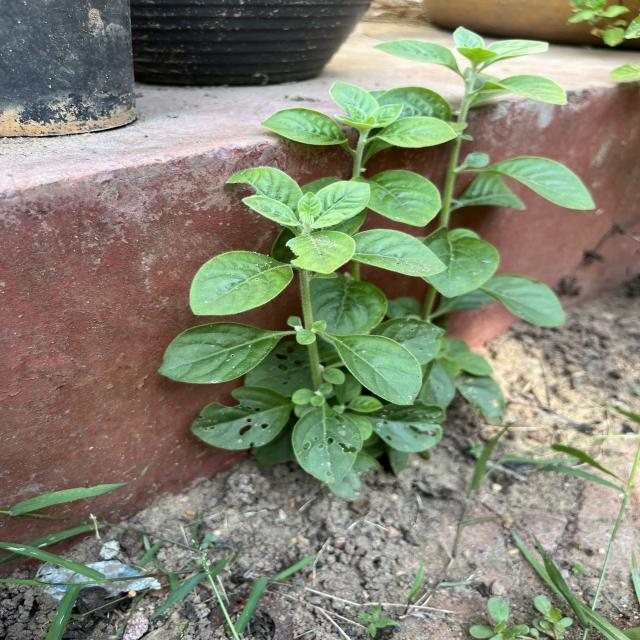Aerva lanata: (156, 320, 284, 386), (187, 248, 296, 317), (328, 332, 426, 408), (350, 227, 450, 279), (306, 179, 372, 224)
